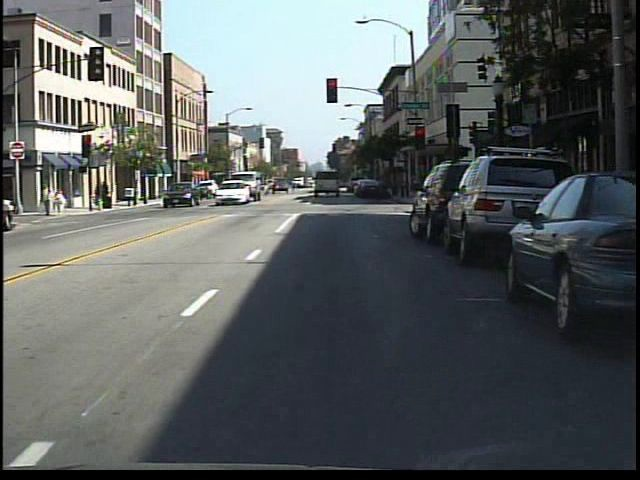person: (40, 181, 57, 219), (52, 185, 69, 219)
